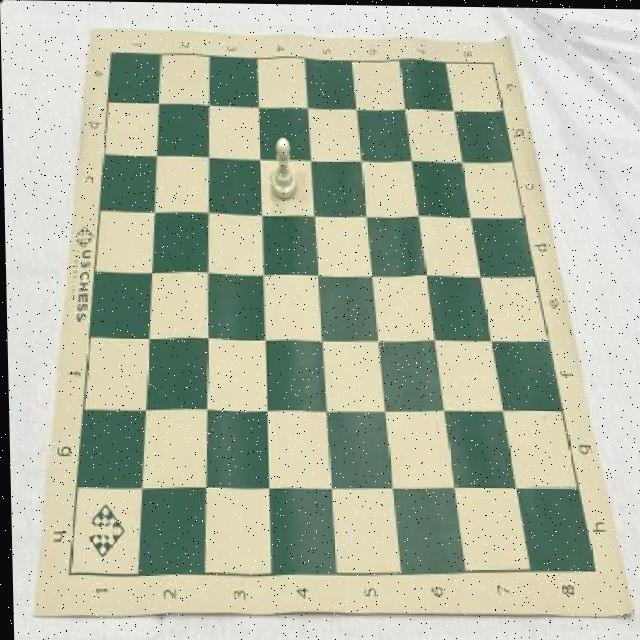white-knight: (269, 135, 298, 200)
